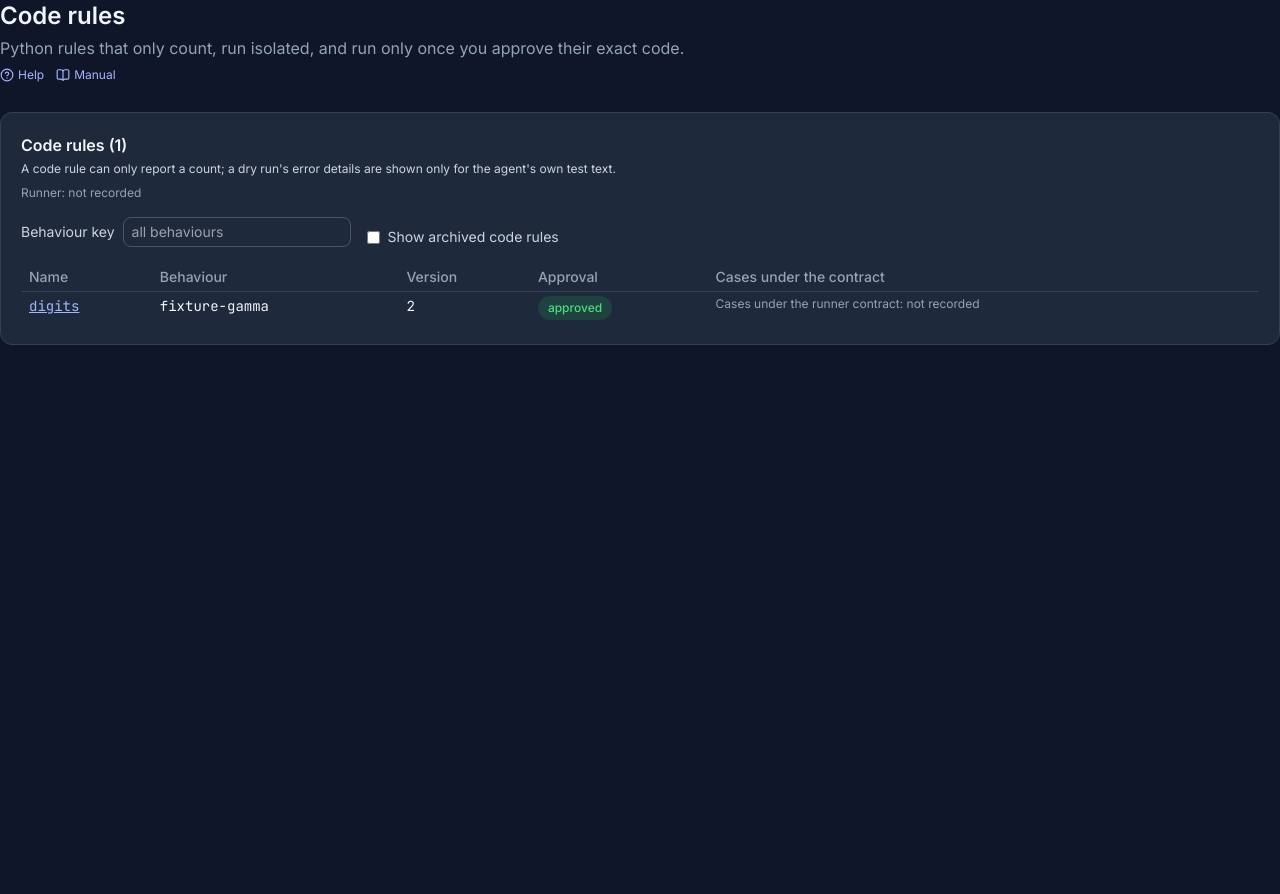
Scenario: Revoke › sends ONE POST with the reason, then reads the rule again
The width and height of the screenshot is (1280, 894).
Click the button "digits" at (54, 306), box x1=29 y1=296 x2=79 y2=316
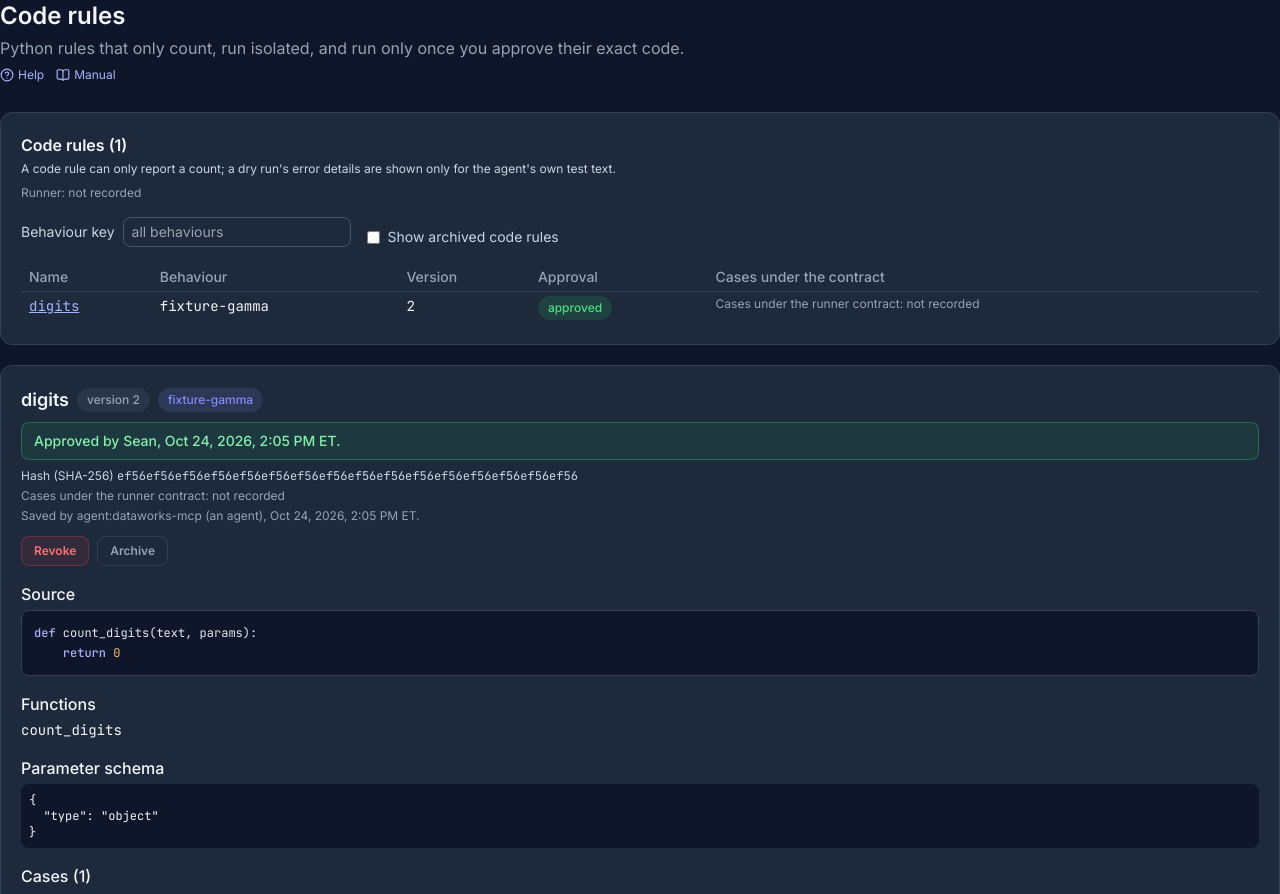
Click the button with test id "code-rule-revoke" at (55, 551), box x1=21 y1=536 x2=89 y2=566
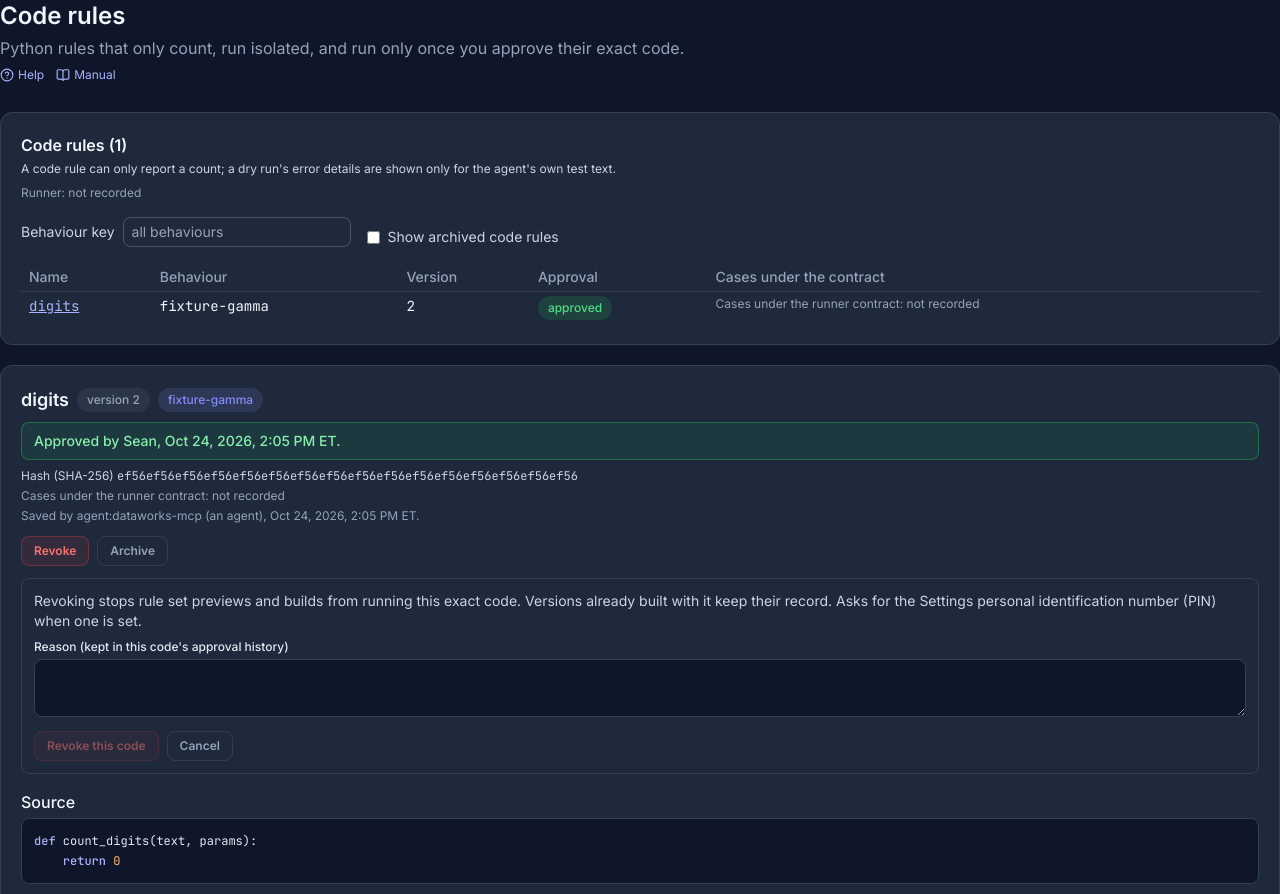
Check: the button "Revoke this code" is disabled, box x1=34 y1=731 x2=159 y2=761
Type "  leaks a pattern  " into the text box labelled "Reason (kept in this code's approval history)" at (640, 688), box x1=34 y1=659 x2=1246 y2=717
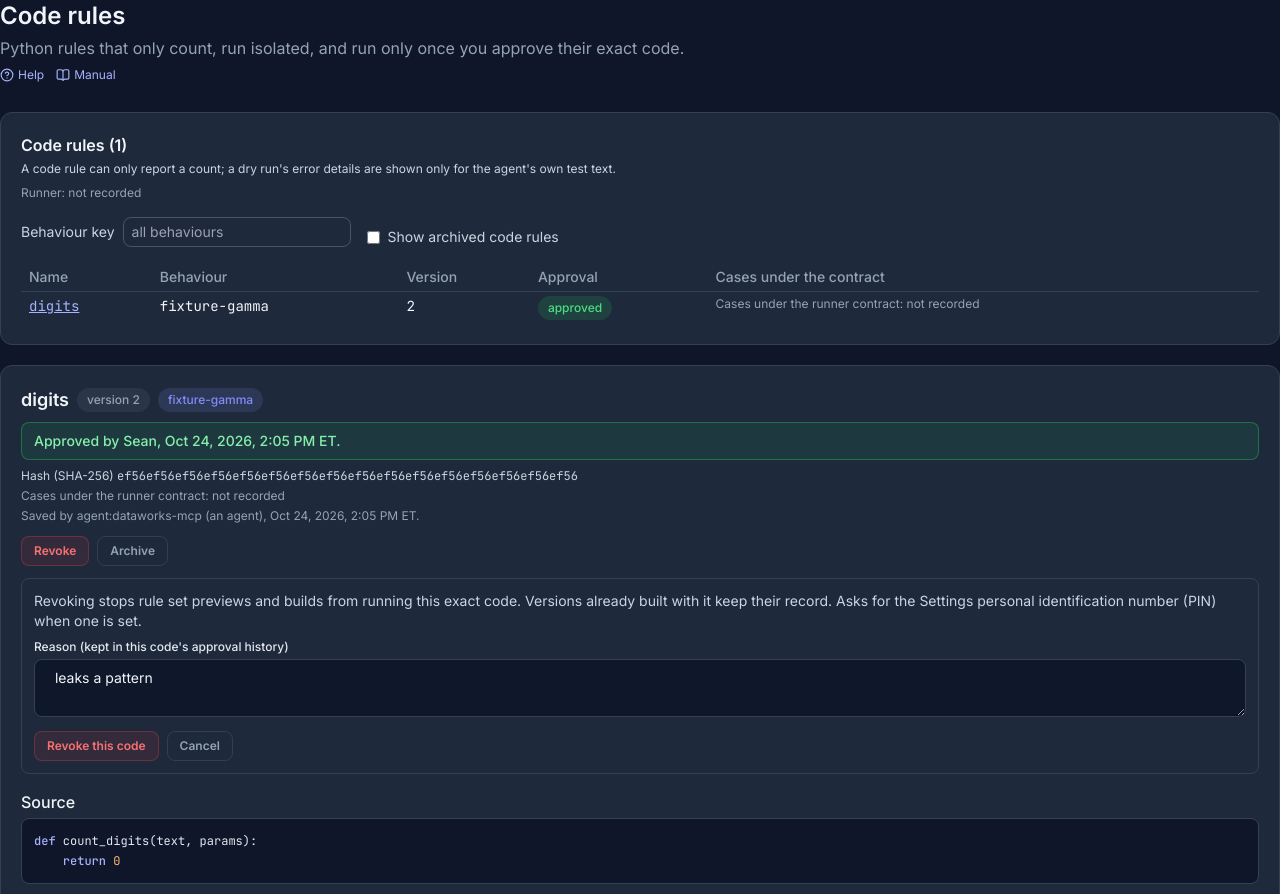
Click the button "Revoke this code" at (96, 746), box x1=34 y1=731 x2=159 y2=761
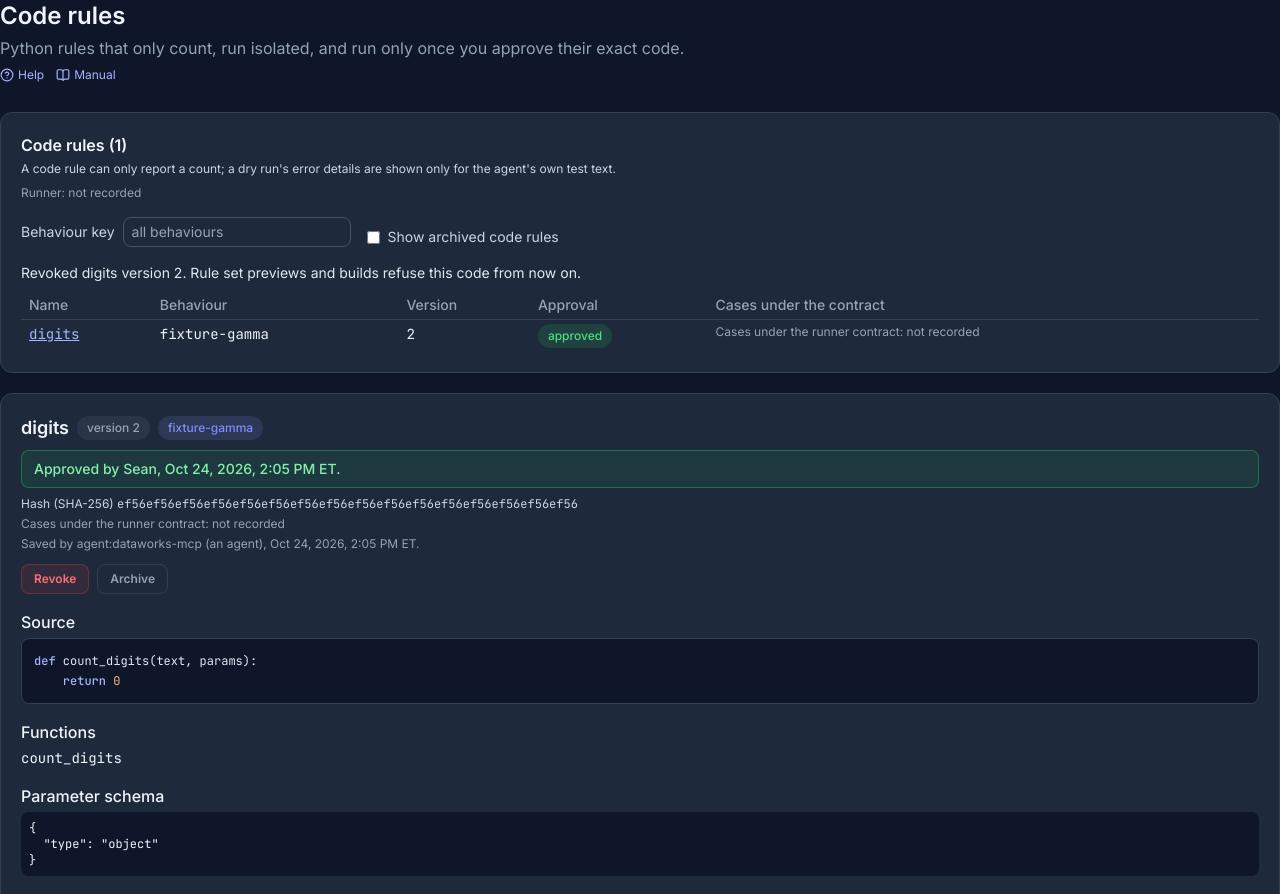
Check: the message with test id "code-rules-notice" is shown, box x1=21 y1=264 x2=581 y2=281
